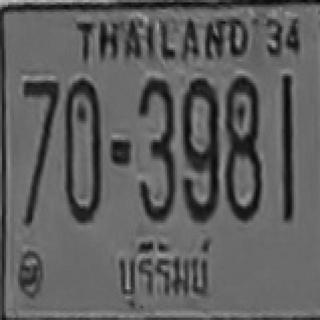N00: (181, 76, 217, 166)
N03: (136, 77, 174, 219)
N07: (22, 78, 58, 154)
N08: (223, 75, 260, 219)
N09: (181, 95, 217, 221)
P06: (109, 233, 214, 309)
